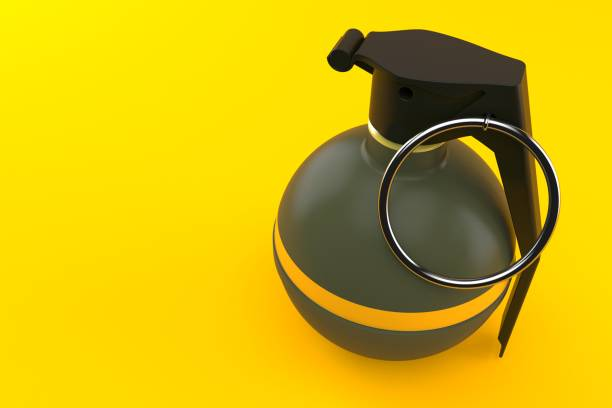e1: (273, 27, 560, 363)
